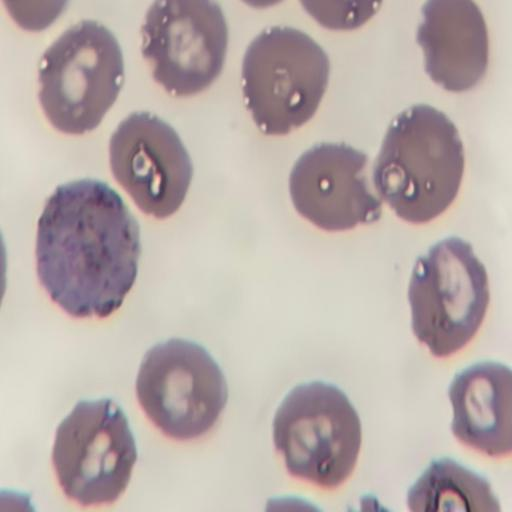Infected: (37, 178, 139, 317)
Uninfected: (410, 233, 489, 360), (38, 23, 126, 136), (380, 108, 463, 223), (244, 26, 331, 133), (140, 337, 230, 437), (53, 398, 137, 504), (277, 381, 361, 486), (111, 113, 193, 217), (144, 0, 228, 94), (289, 146, 378, 231), (418, 0, 486, 93), (450, 363, 512, 458)
